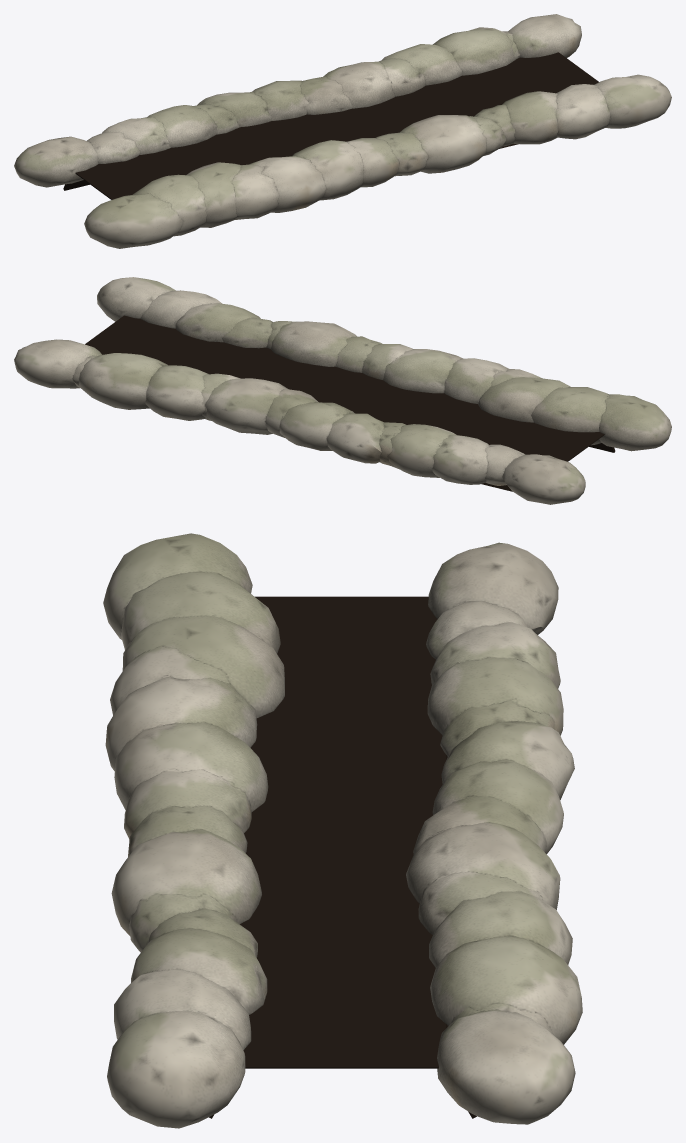
Rendered from costa_ravina_trecho.glb.
The picture shows the model from 3 angles, top to bottom: view 1: azimuth 30°, elevation 25°; view 2: azimuth 150°, elevation 25°; view 3: azimuth 270°, elevation 25°; orthographic projection. The views are drawn at different scales.
Visible parts, largest first — view 1: costa_ravina_trecho; view 2: costa_ravina_trecho; view 3: costa_ravina_trecho.
Part boxes in pixels (x1,y1,x2,y2): costa_ravina_trecho: (14,14,671,248); costa_ravina_trecho: (14,277,671,504); costa_ravina_trecho: (103,533,582,1128).
Bounding box in the file's own units: 12.58 × 1.04 × 4.57.
2 materials, 1 textured.
